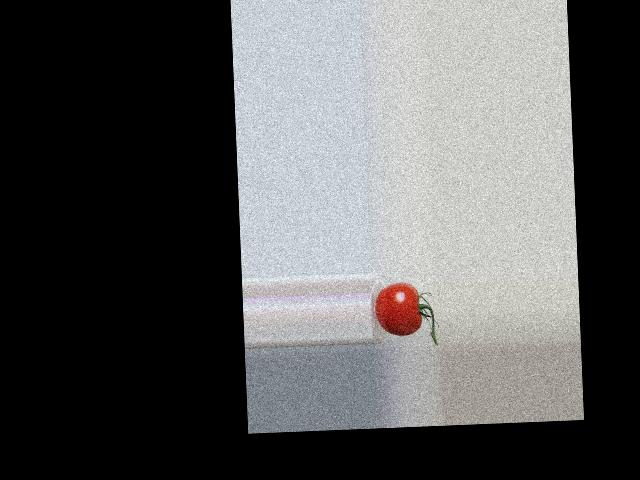tomato: (374, 281, 422, 337)
